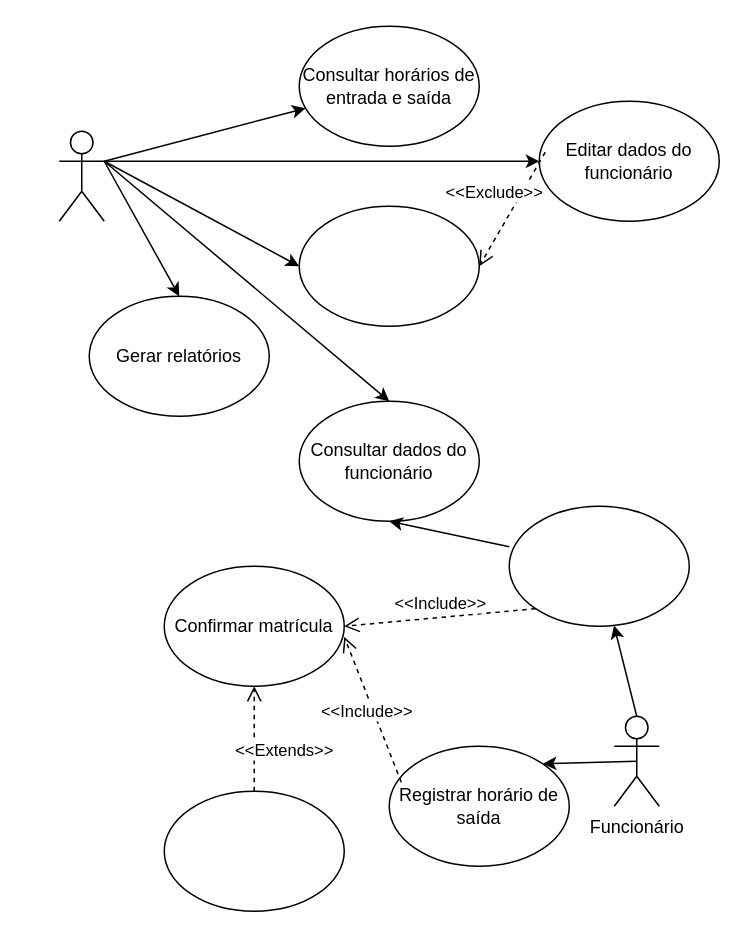
The diagram is 746 pixels wide and 938 high, and some of its shapes have lost their labels. Each missing label, with the centre of its shape:
Administrador: the point at 81,175
Fala em confirmar matrícula: the point at 253,850
Registrar dados do funcionário: the point at 388,265
Registrar horário de chegada: the point at 598,565
